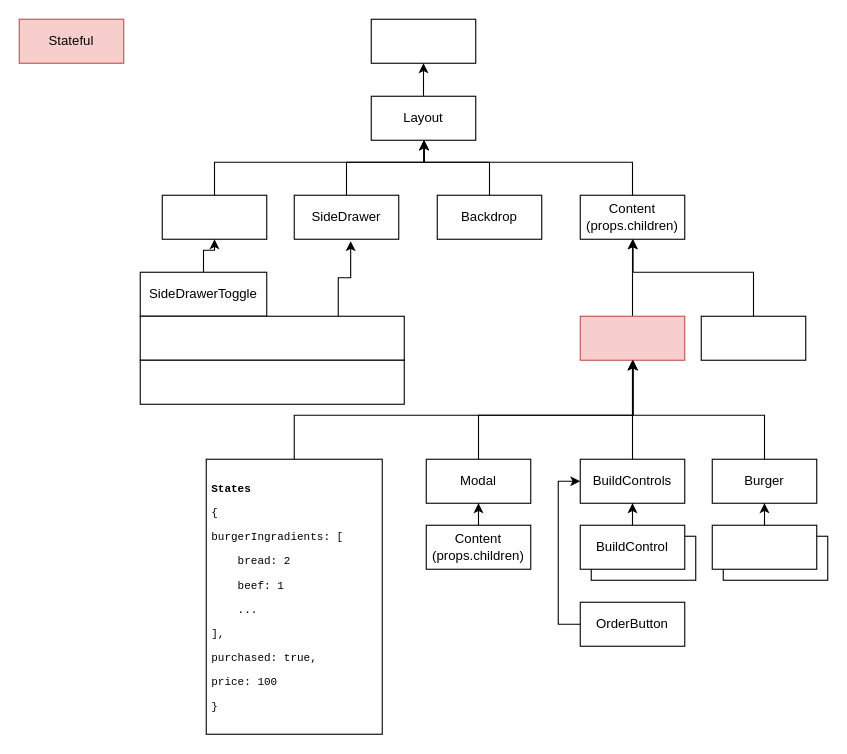
Some shapes in this 847 by 754 pixel diagram are drawn without their labels. Each missing label, with the centre of its shape:
"<other pages...>" goes at pixel 753 337.
"App" goes at pixel 423 40.
"BurgerBuilder" goes at pixel 632 337.
"BurgerIngredient" goes at pixel 764 546.
"Logo" goes at pixel 271 337.
"NavigationItems" goes at pixel 271 381.
"Toolbar" goes at pixel 214 216.
